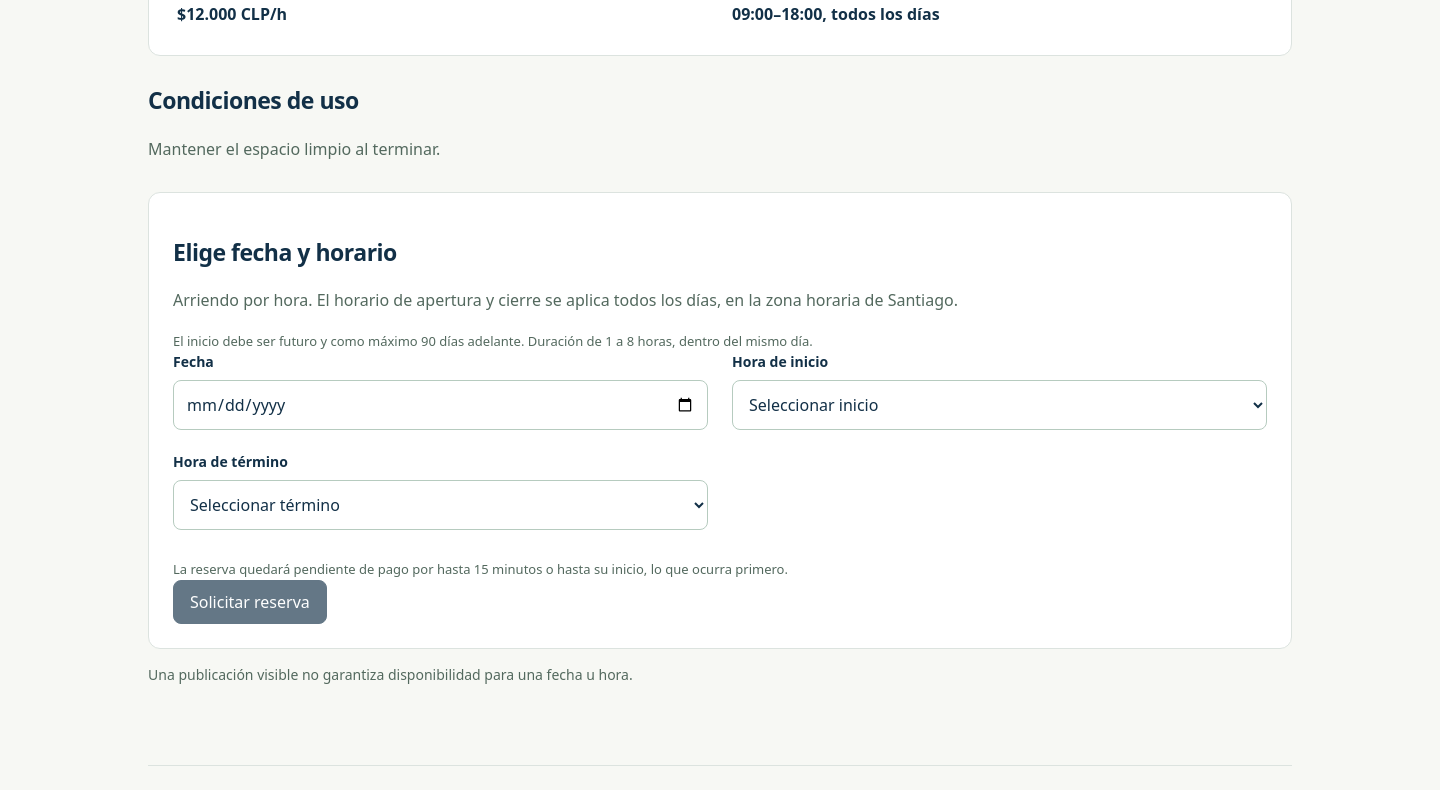
Test: HU12: estima duración y total, crea con sesión y muestra únicamente el contrato confirmado por el servidor
The width and height of the screenshot is (1440, 790).
(page scrolled)
Type "2026-10-09" into the date field labelled "Fecha".
click(440, 406); type("2026-10-09")  # box [173,380,708,430]
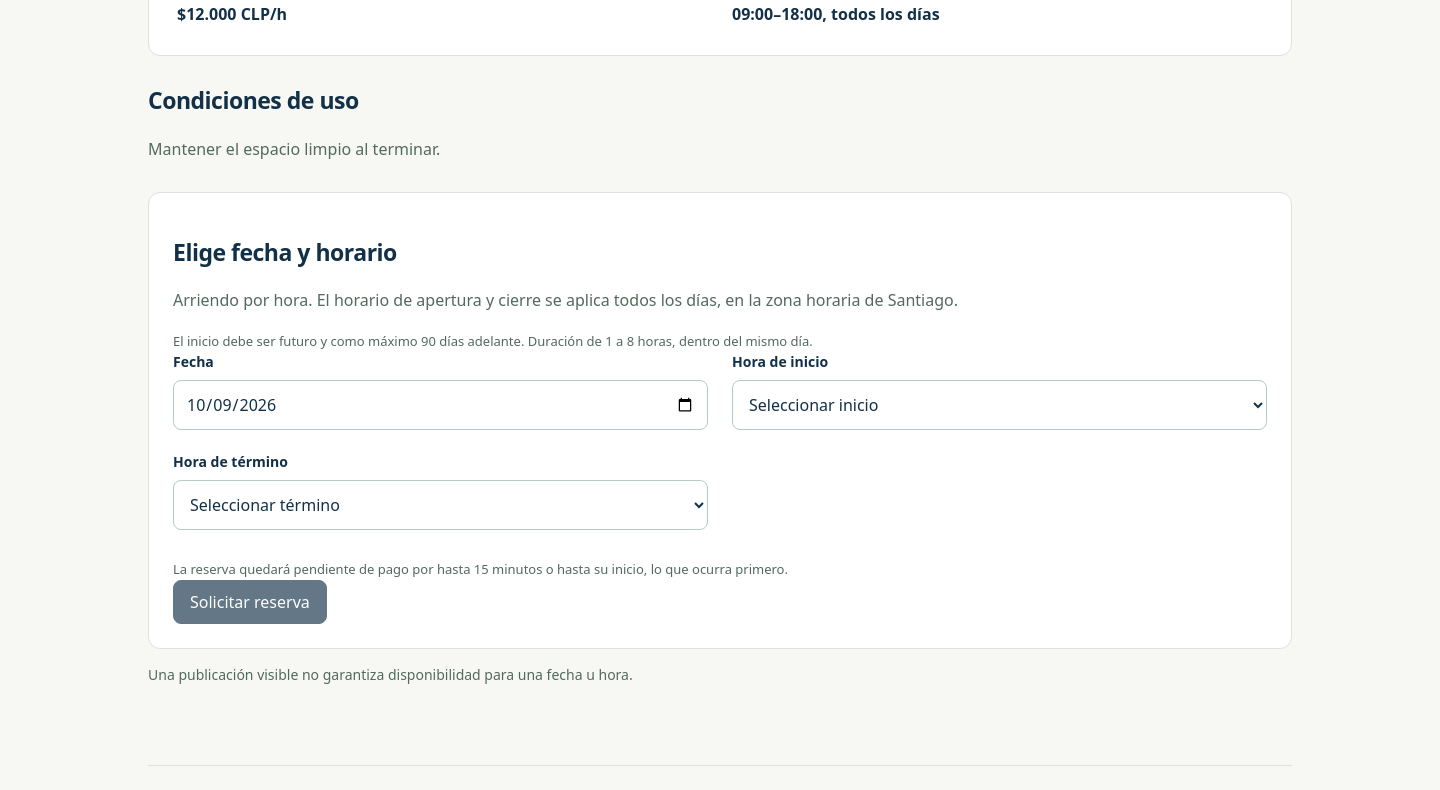
Select "10:00" in the dropdown labelled "Hora de inicio" at (1000, 406), box [732,380,1267,430]
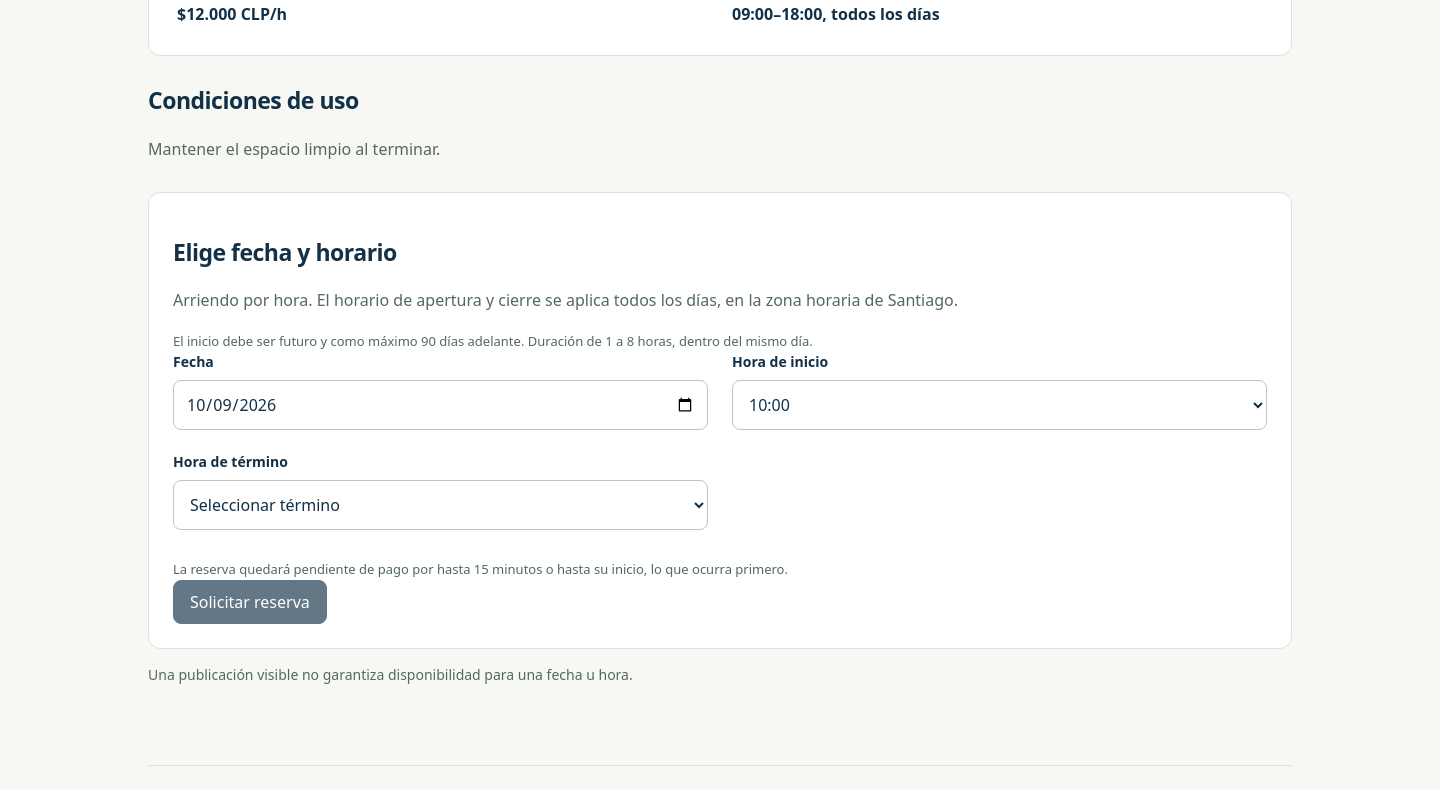
Select "12:00" in the dropdown labelled "Hora de término" at (440, 506), box [173,480,708,530]
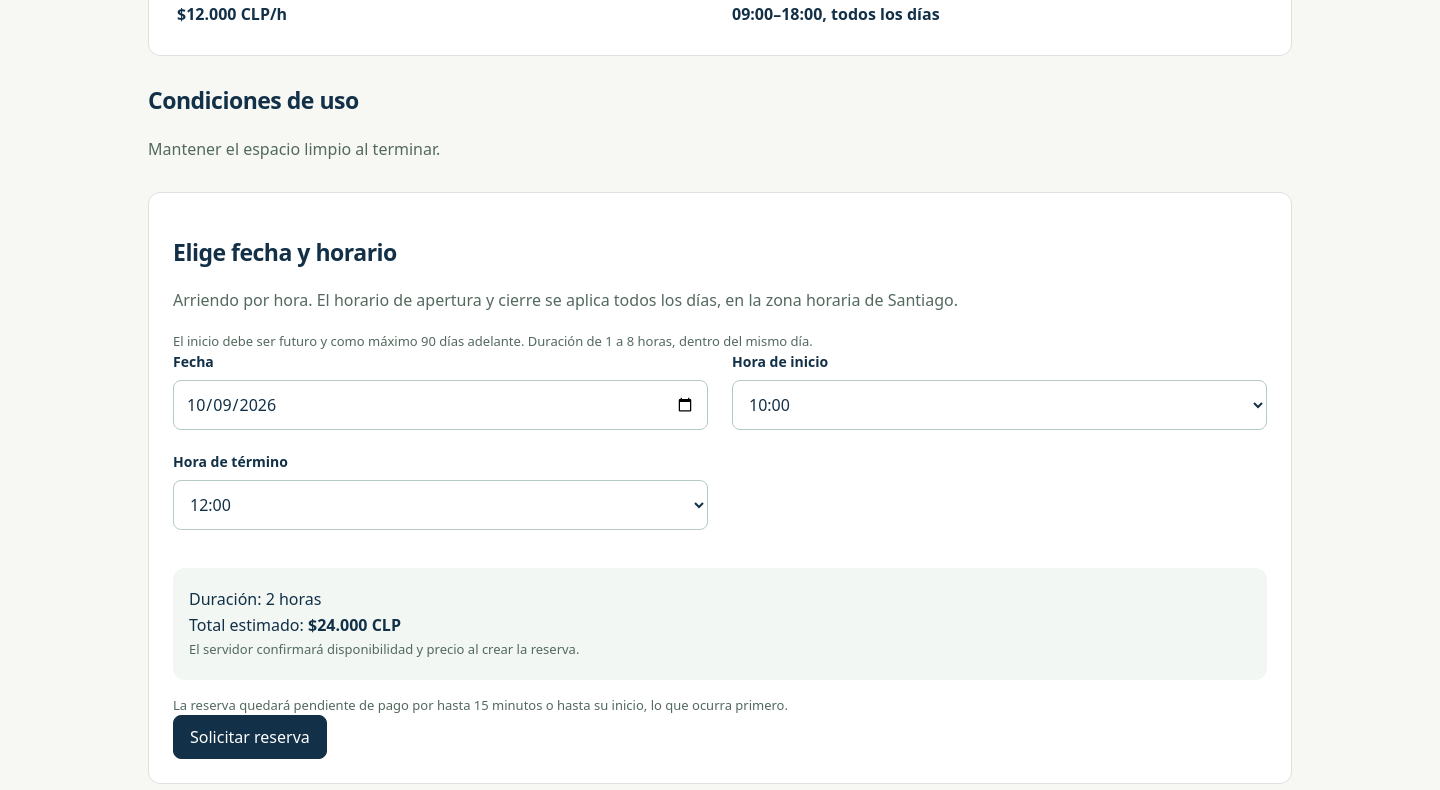
Now the element named "Resumen estimado" shows "Duración: 2 horas", box [173,568,1267,680]
Now the element named "Resumen estimado" shows "$24.000 CLP", box [173,568,1267,680]
Click the button "Solicitar reserva".
click(250, 738)  # box [173,716,327,760]
(page scrolled)
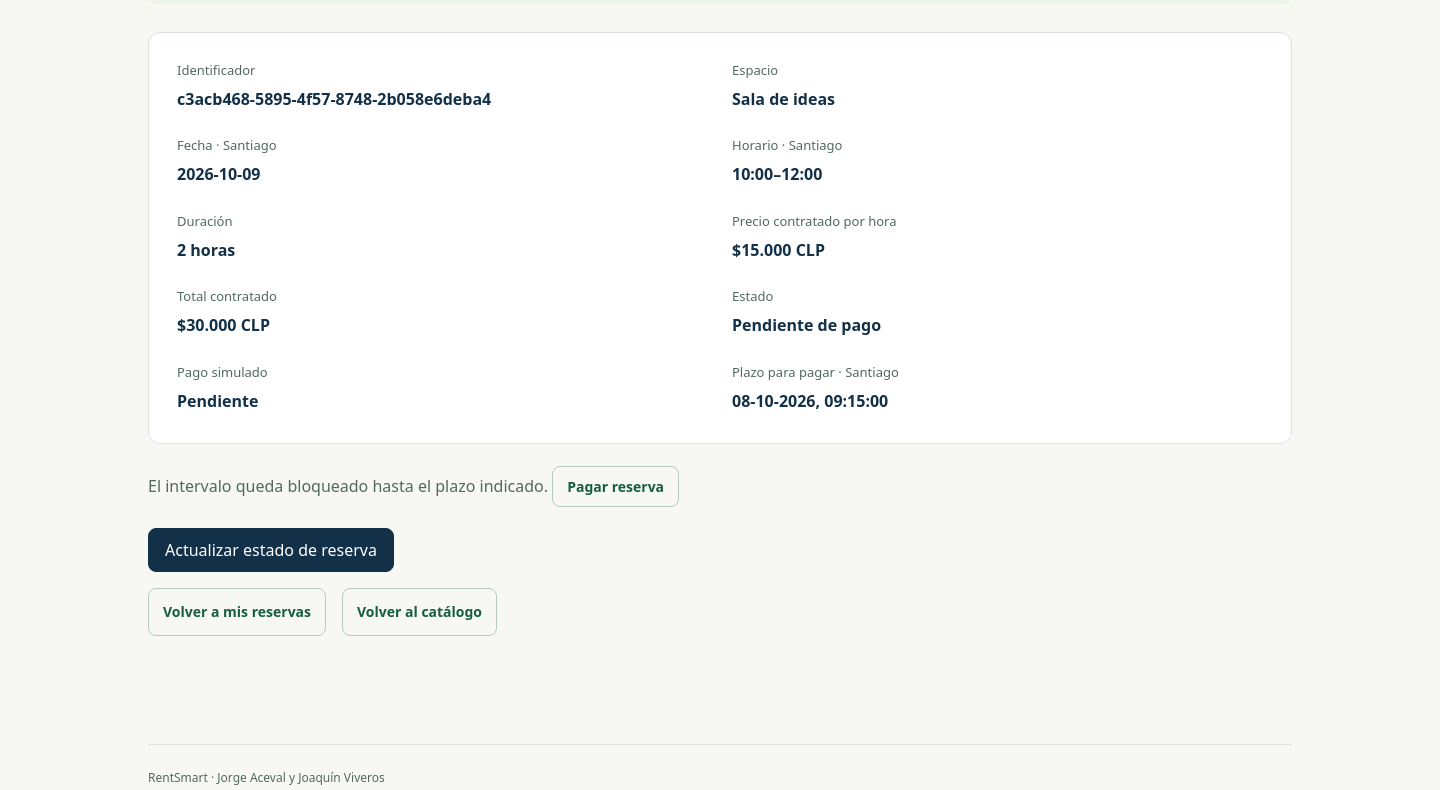
Now the text "c3acb468-5895-4f57-8748-2b058e6deba4" is shown, box [177,88,491,110]
Now the text "2026-10-09" is shown, box [177,163,260,185]
Now the text "10:00–12:00" is shown, box [732,163,822,185]
